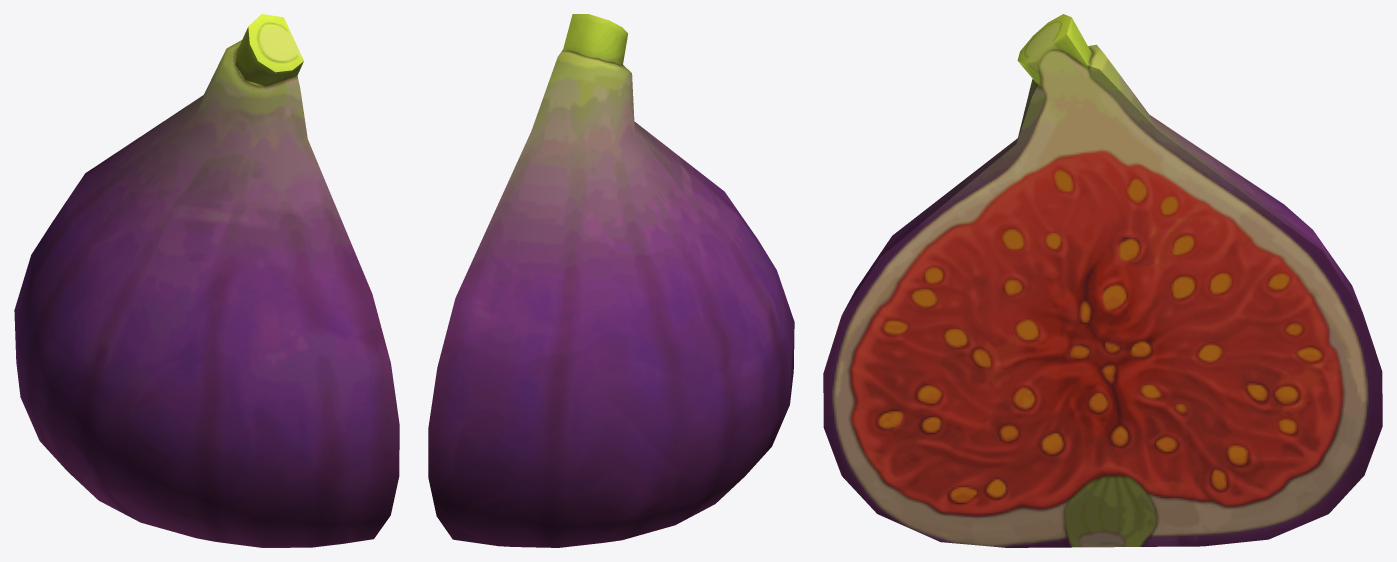
File: SM_FigCutA.fbx
3 views of the same model, side by side, from view 1: azimuth 30°, elevation 25°; view 2: azimuth 150°, elevation 25°; view 3: azimuth 270°, elevation 25° (orthographic). The views are drawn at different scales.
Visible parts, largest first — view 1: SM_FigCutA; view 2: SM_FigCutA; view 3: SM_FigCutA.
Part boxes in pixels (x1,y1,x2,y2): SM_FigCutA: (14,14,399,547); SM_FigCutA: (428,14,794,547); SM_FigCutA: (823,14,1382,547).
Size of the model in its own units: 5.19 by 11.32 by 11.03.
